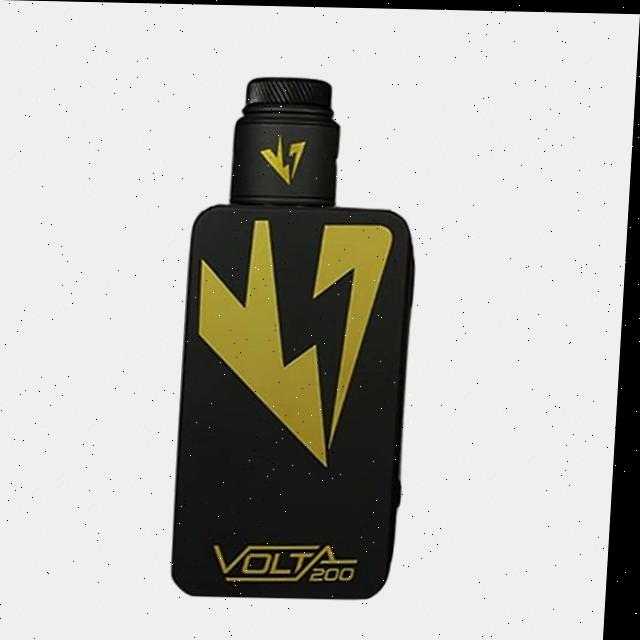vape: (174, 72, 427, 602)
